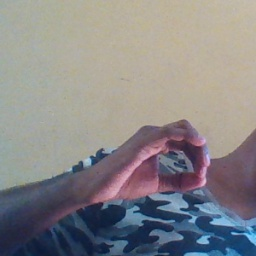O: (91, 116, 215, 212)
